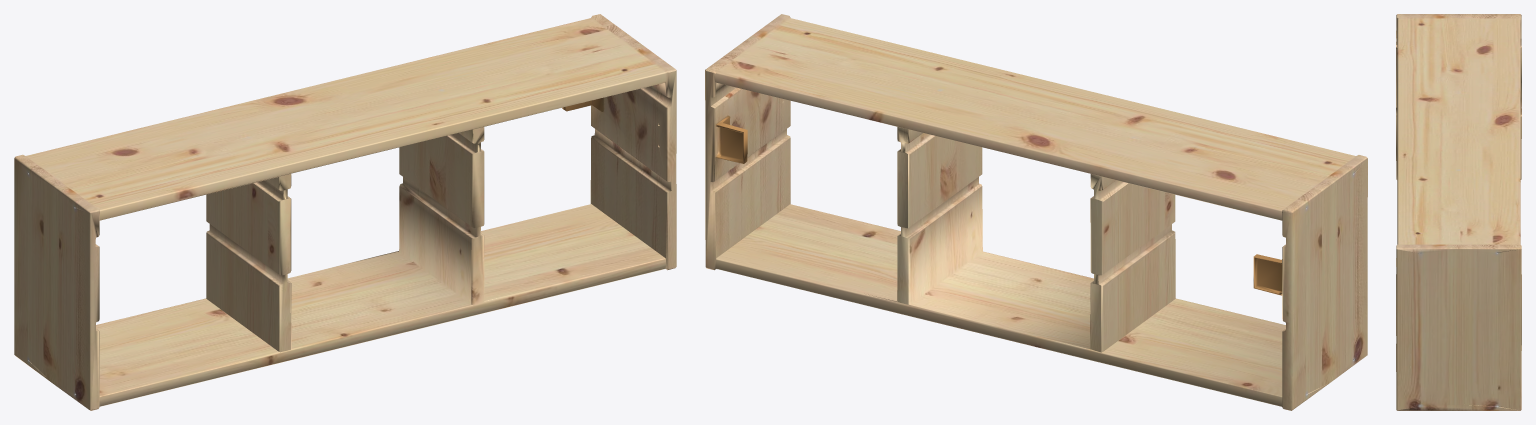
3 views of the same model, side by side, from view 1: azimuth 30°, elevation 25°; view 2: azimuth 150°, elevation 25°; view 3: azimuth 270°, elevation 25° (orthographic). The views are drawn at different scales.
Visible parts, largest first — view 1: ProcessedMeshNode; view 2: ProcessedMeshNode; view 3: ProcessedMeshNode.
Boxes of the visible parts, x1=… form: ProcessedMeshNode: x1=14, y1=14, x2=676, y2=410; ProcessedMeshNode: x1=705, y1=14, x2=1367, y2=410; ProcessedMeshNode: x1=1396, y1=14, x2=1521, y2=410.
Size of the model in its own units: 0.9311 by 0.3022 by 0.2109.
Materials: 1 (1 with a texture image).
